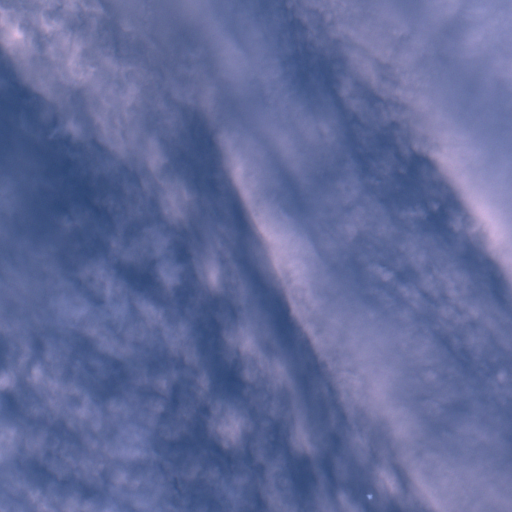Iceberg: (367, 494, 372, 499)
